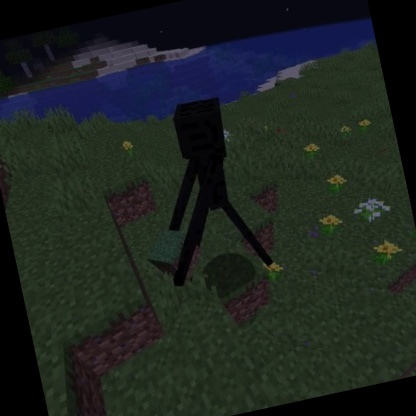enderman: (124, 88, 277, 293)
